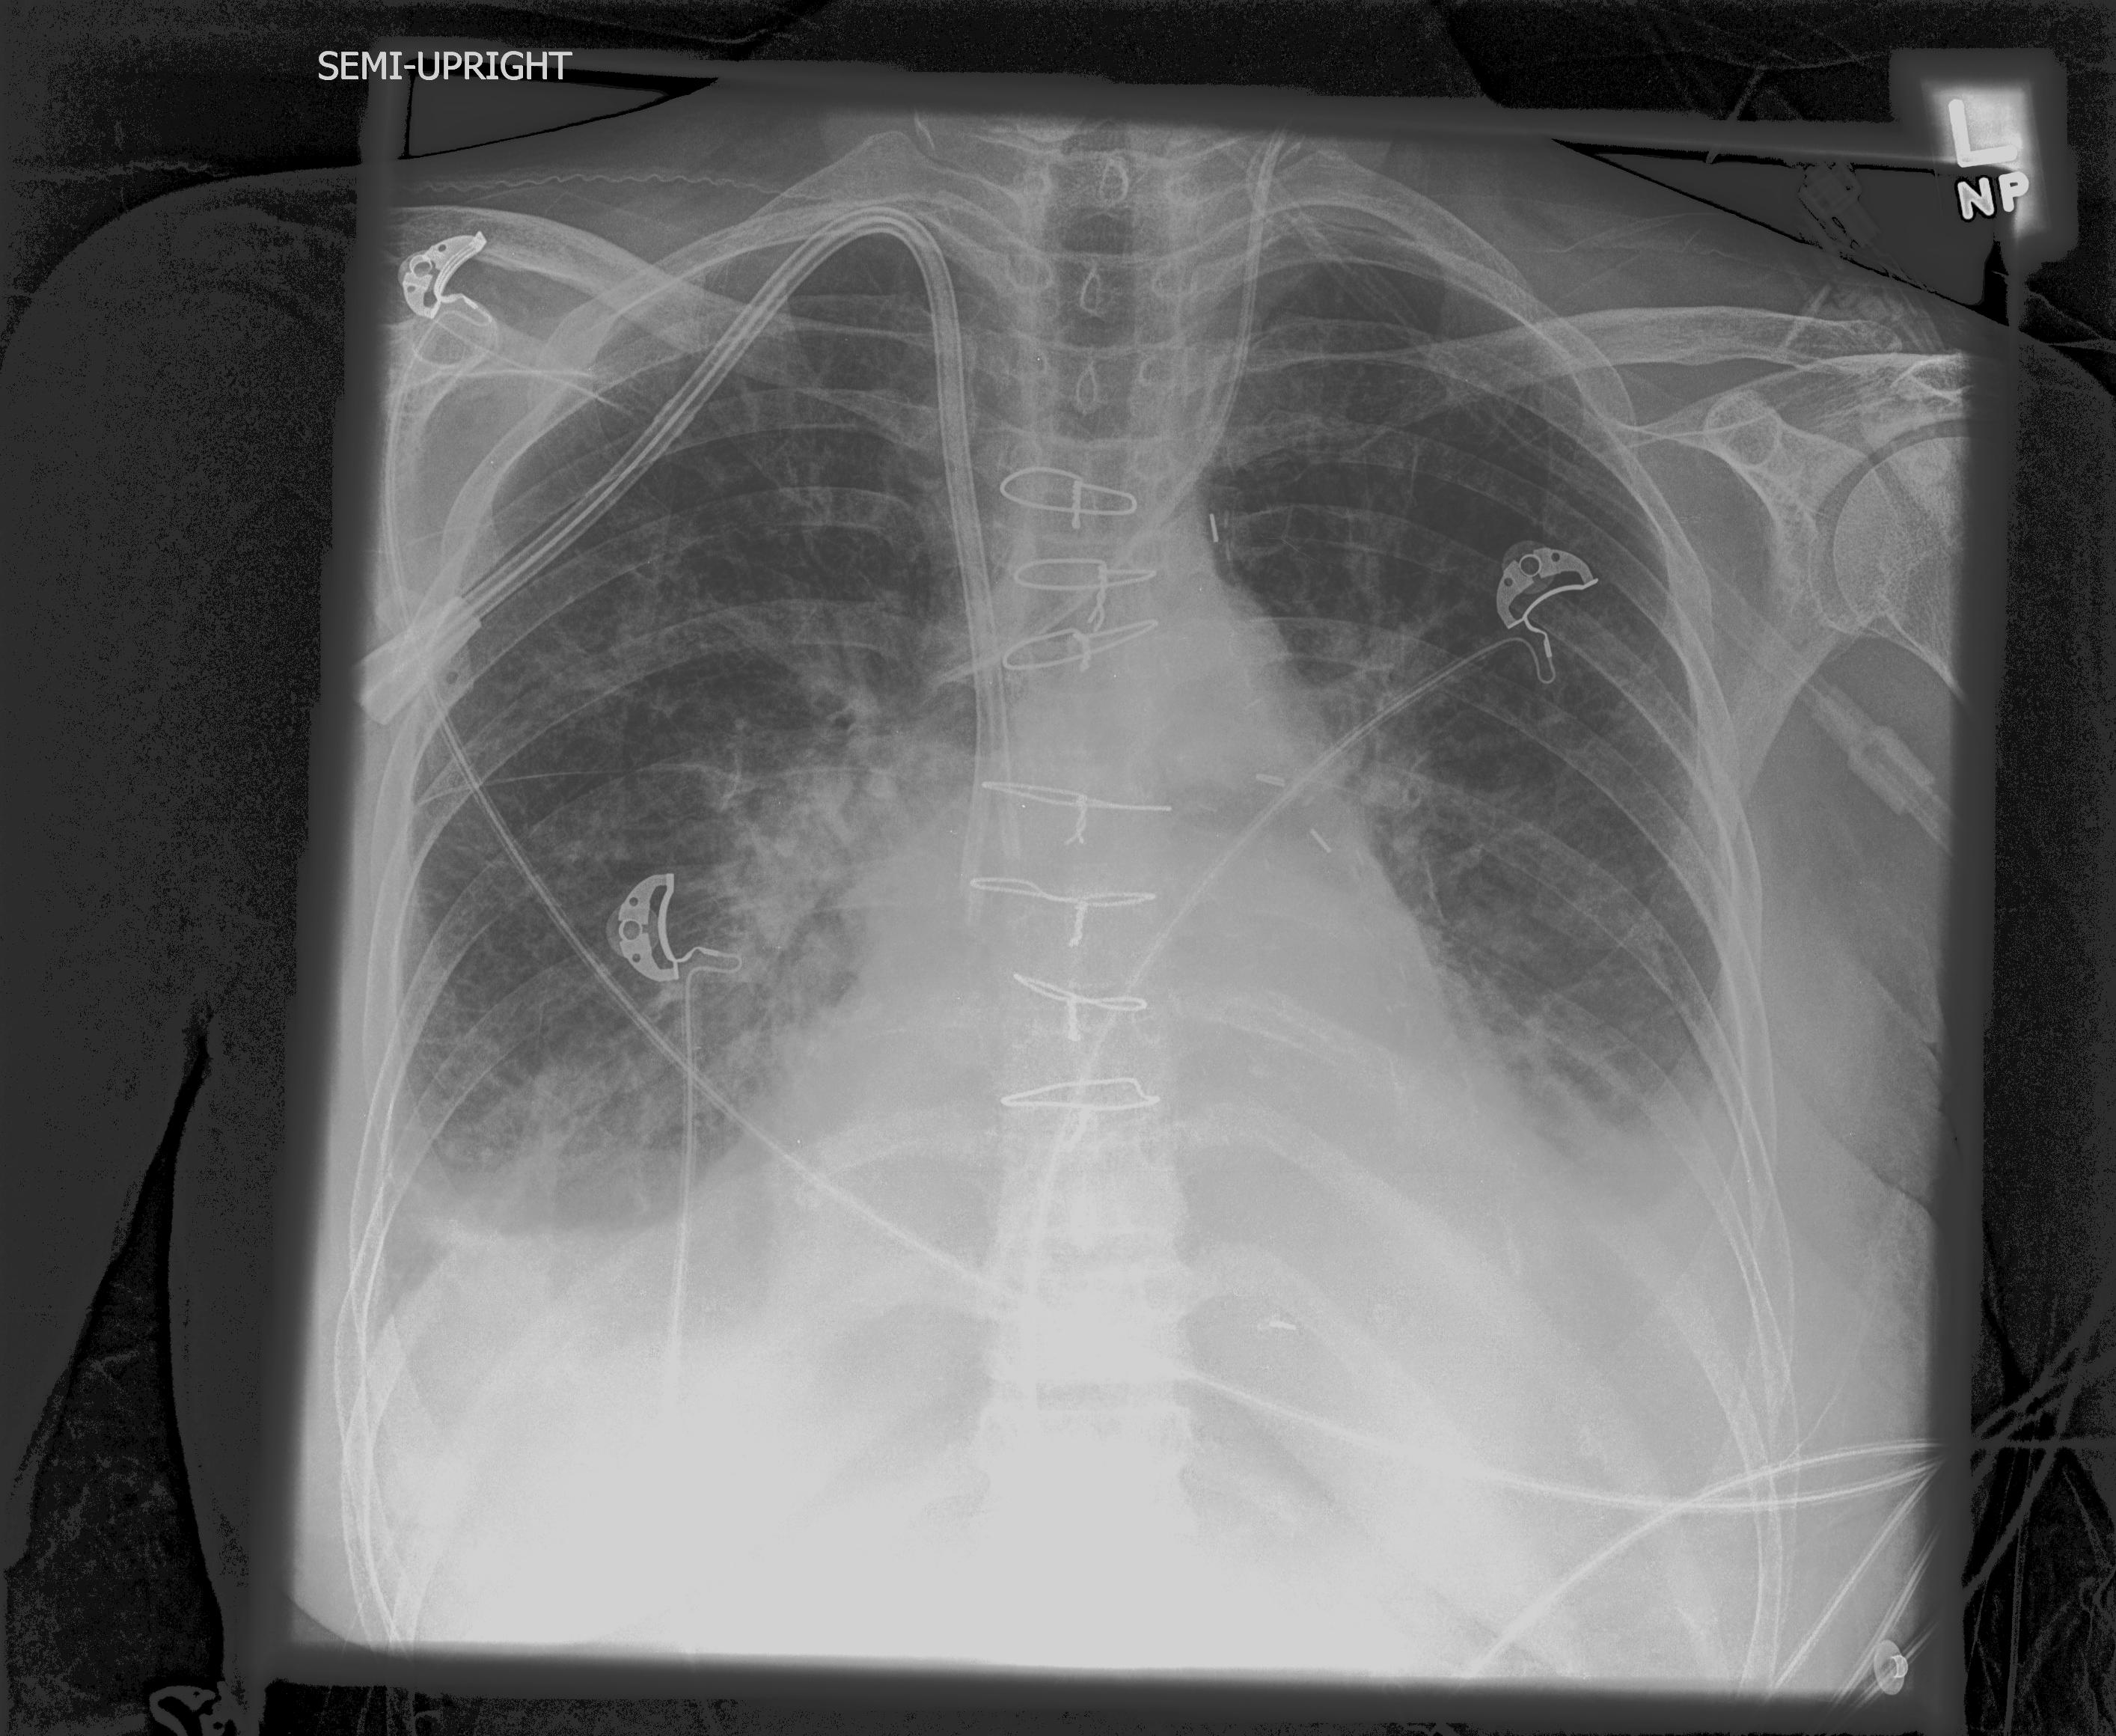Pleural Effusion: (325, 1139, 888, 1511), (1441, 1077, 1833, 1448)
